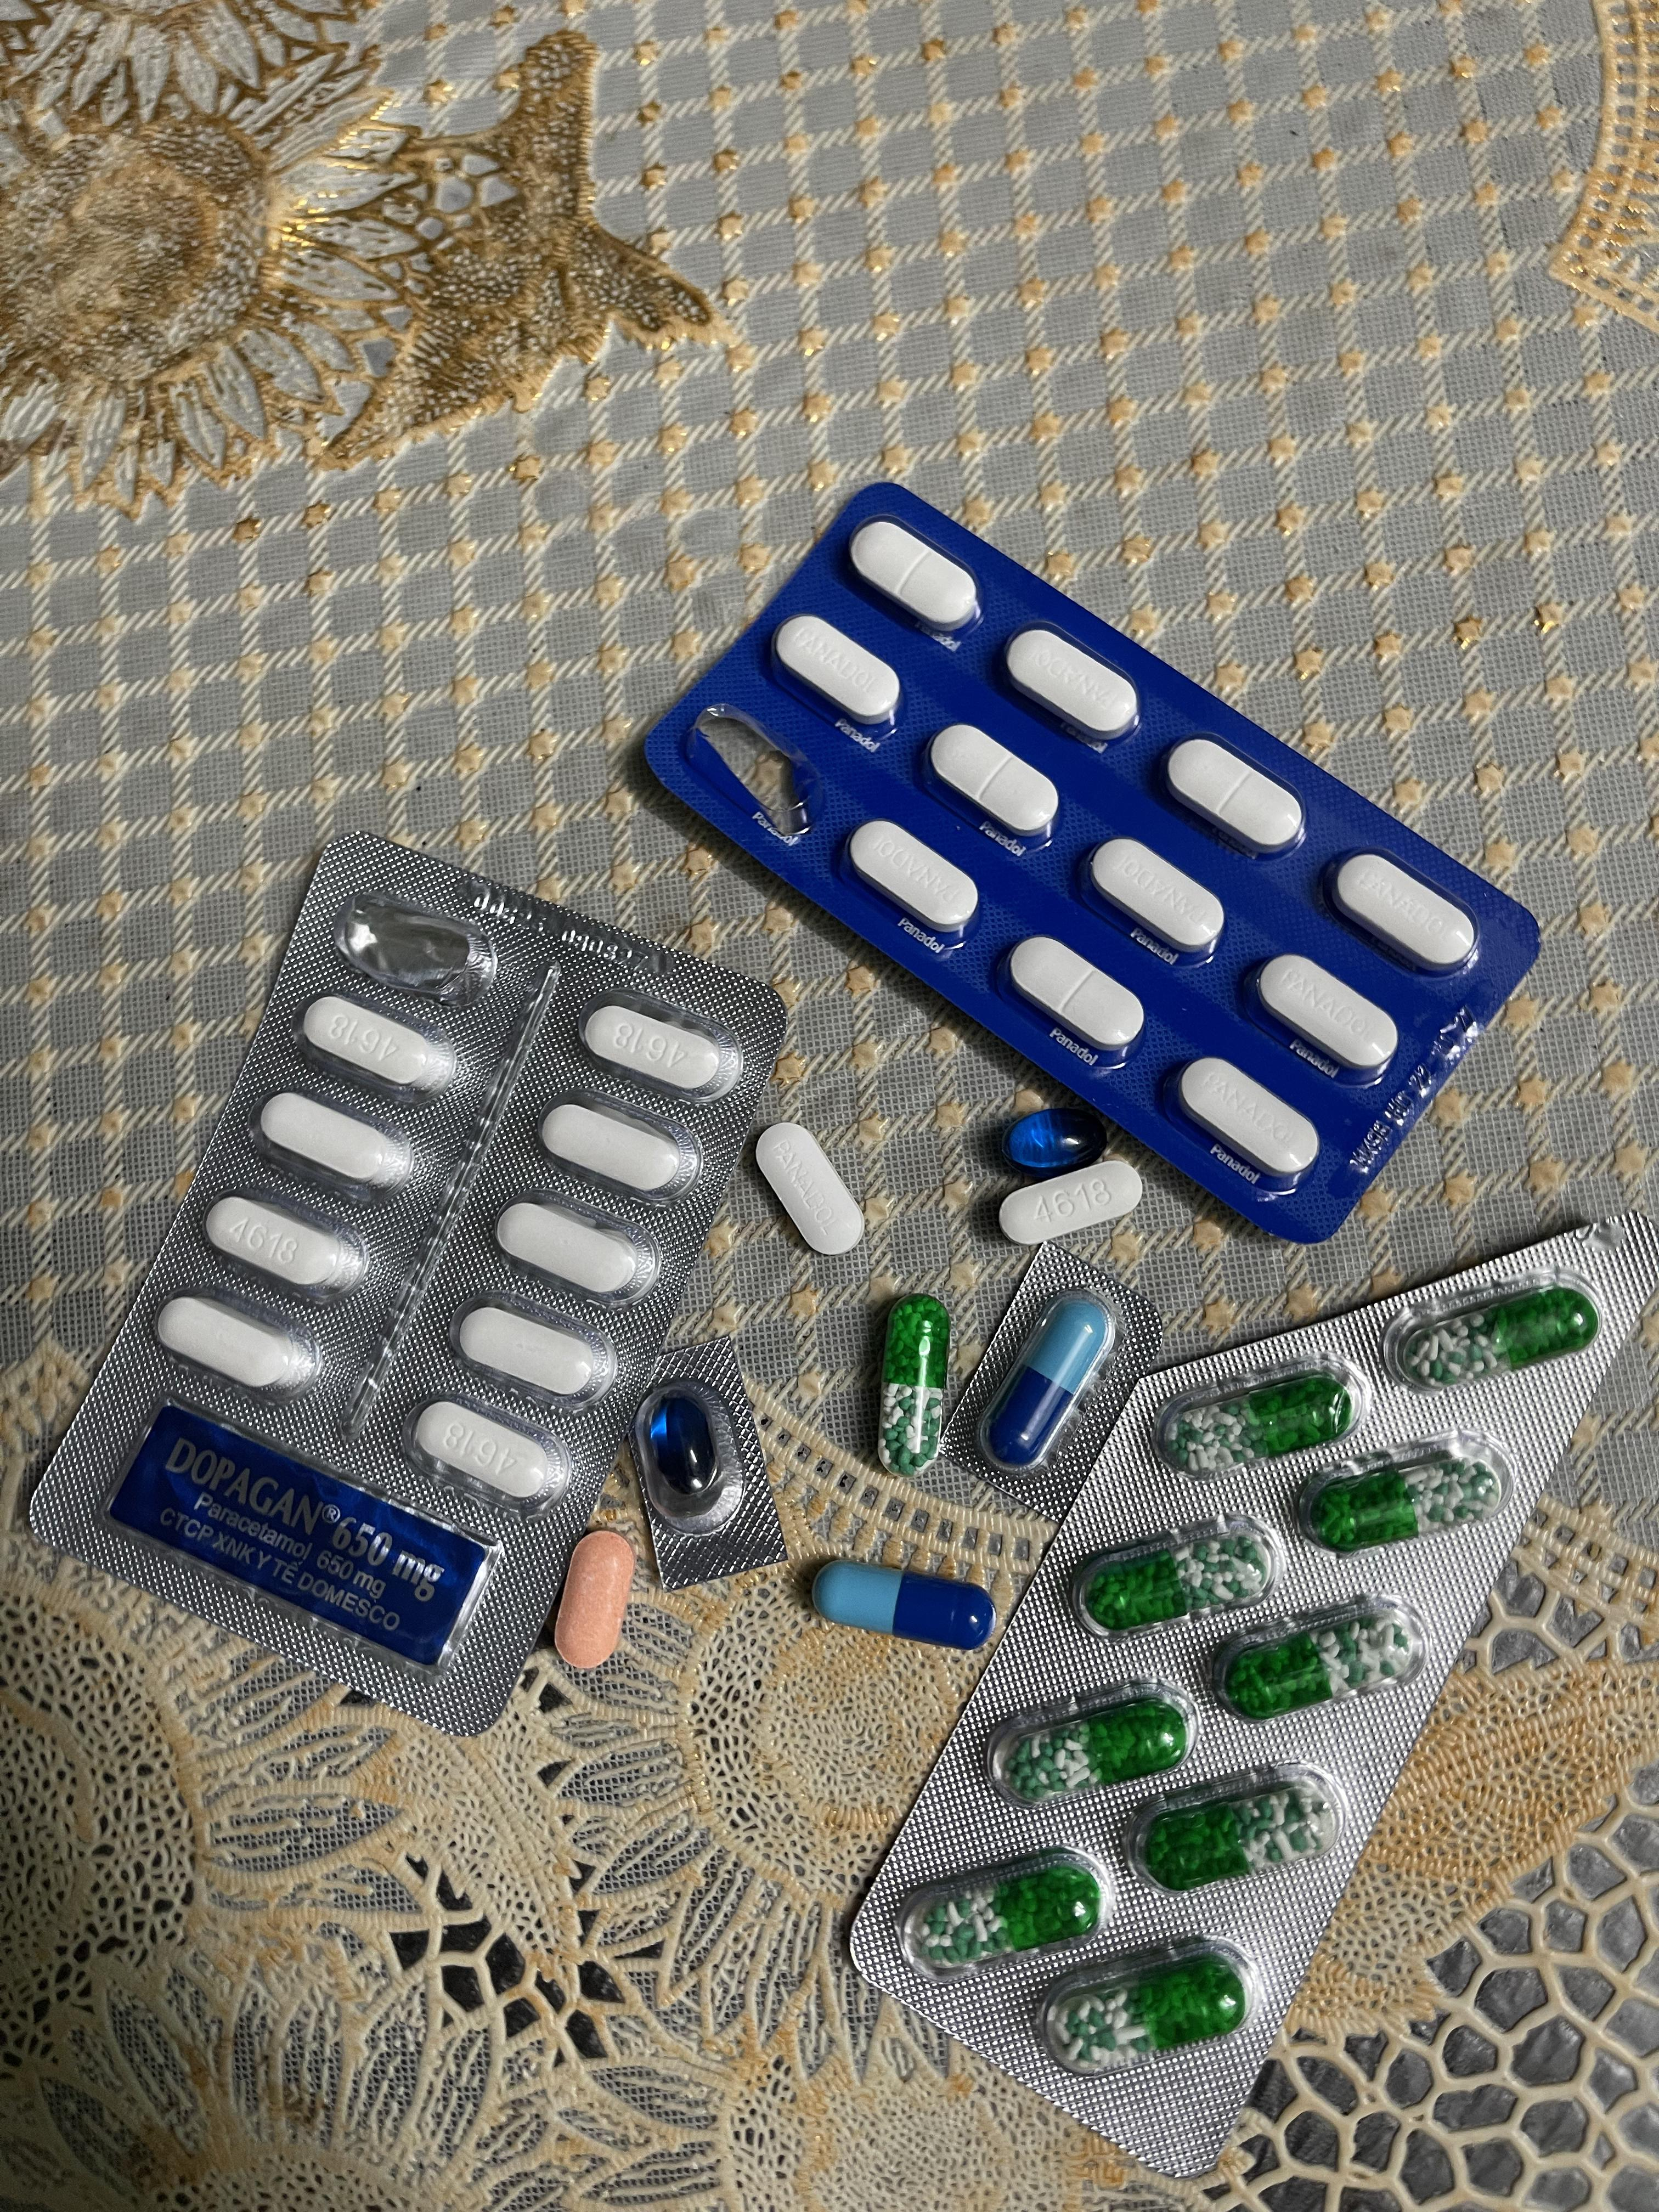Lincomyxin_500mg: (652, 1392, 721, 1496), (1002, 1106, 1108, 1174)
Loratadine_10mg: (556, 1531, 636, 1667)
Paracetamol_350mg: (1324, 852, 1483, 977), (1248, 956, 1398, 1080), (1159, 735, 1304, 859), (1173, 1062, 1316, 1184), (1004, 625, 1141, 749), (1006, 937, 1143, 1059), (1084, 836, 1222, 956), (850, 517, 985, 639), (927, 725, 1058, 846), (847, 822, 978, 941), (755, 1118, 868, 1254), (772, 615, 897, 733)
Paracetamol_500mg: (261, 1094, 420, 1197), (202, 1195, 364, 1294), (497, 1202, 657, 1301), (411, 1402, 561, 1507), (157, 1296, 317, 1393), (300, 998, 457, 1096), (584, 1000, 737, 1099), (457, 1305, 610, 1402), (538, 1101, 680, 1191), (999, 1160, 1141, 1242)
Paracetamol_650mg: (1037, 1935, 1244, 2073), (1127, 1763, 1342, 1893), (1154, 1355, 1371, 1482), (897, 1848, 1107, 1980), (1213, 1594, 1425, 1716), (1387, 1270, 1605, 1388), (1075, 1510, 1279, 1634), (986, 1677, 1185, 1803), (1295, 1435, 1509, 1548), (878, 1299, 951, 1475)
pill: (978, 1289, 1119, 1465), (817, 1561, 993, 1646)
